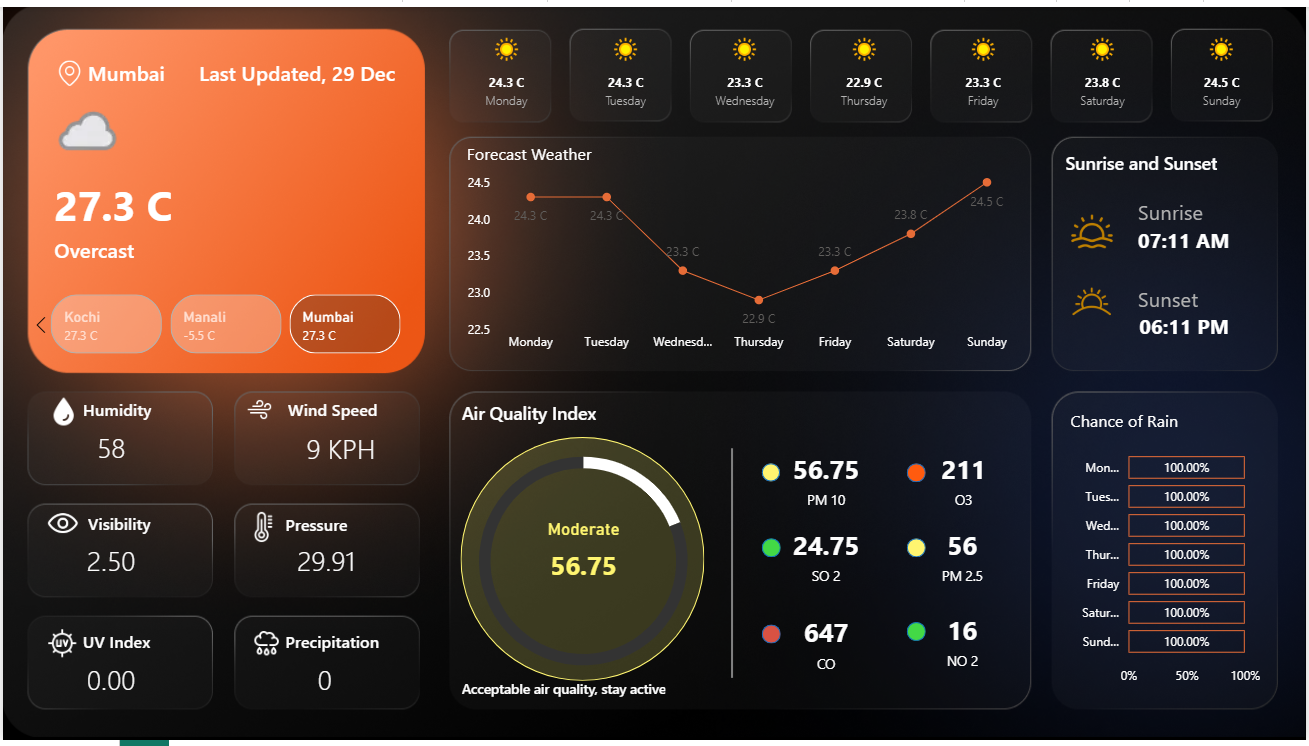

The page's visual inventory and layout, read from the dashboard file:
{"tool":"powerbi","page":{"name":"Page 1","canvas":[1280,720],"ordinal":0},"visuals":[{"type":"shape","box":[449.2,422.6,239.5,239.5],"z":0},{"type":"advancedSlicerVisual","fields":{"Values":["Locations.location.name"]},"box":[22,277.2,393.8,68.6],"z":1000},{"type":"shape","box":[50.8,167.4,205.8,53.5],"z":2000},{"type":"shape","box":[50.8,220.9,205.8,34.3],"z":3000},{"type":"shape","box":[167.4,46.7,218.2,34.3],"z":4000},{"type":"shape","box":[83.7,46.7,140,34.3],"z":5000},{"type":"cardVisual","fields":{"Data":["Min(Current.current.condition.icon)"]},"box":[22,64.5,112.5,105.7],"z":6000},{"type":"image","box":[46.7,48,37,34.3],"z":7000},{"type":"shape","box":[83.7,489.9,116.6,34.3],"z":8000},{"type":"image","box":[34.3,484.4,49.4,43.9],"z":9000},{"type":"shape","box":[279.9,377.4,116.6,34.3],"z":10000},{"type":"image","box":[223.7,377.4,56.3,34.3],"z":11000},{"type":"shape","box":[78.2,377.4,116.6,34.3],"z":12000},{"type":"shape","box":[277.2,491.3,116.6,34.3],"z":13000},{"type":"shape","box":[78.2,605.1,116.6,34.3],"z":14000},{"type":"shape","box":[277.2,605.1,116.6,34.3],"z":15000},{"type":"image","box":[32.9,377.4,52.1,38.4],"z":16000},{"type":"image","box":[234.6,491.3,42.5,39.8],"z":17000},{"type":"image","box":[26.1,605.1,64.5,39.8],"z":18000},{"type":"image","box":[234.6,605.1,48,39.8],"z":19000},{"type":"card","fields":{"Values":["Sum(Current.current.humidity)"]},"box":[71.8,394.7,70.3,76.1],"z":20000},{"type":"card","fields":{"Values":["_Measures.Wind_Speed"]},"box":[277,396.1,109.1,76.1],"z":21000},{"type":"card","fields":{"Values":["Sum(Current.current.vis_km)"]},"box":[71.8,506.7,70.3,76.1],"z":22000},{"type":"card","fields":{"Values":["Sum(Current.current.pressure_in)"]},"box":[269.8,506.7,94.7,76.1],"z":23000},{"type":"card","fields":{"Values":["Sum(Current.current.uv)"]},"box":[71.8,622.9,70.3,76.1],"z":24000},{"type":"card","fields":{"Values":["Sum(Current.current.precip_in)"]},"box":[281.3,622.9,70.3,76.1],"z":25000},{"type":"advancedSlicerVisual","fields":{"Values":["Forecast_Day.Day_Forecast"]},"box":[414.8,14.4,865.5,103.3],"z":26000},{"type":"lineChart","title":"Forecast Weather","fields":{"Y":["Sum(Forecast_Day.forecast.forecastday.day.avgtemp_c)"],"Category":["Forecast_Day.Day_Name"]},"box":[450.2,132.2,550.6,214.2],"z":27000},{"type":"shape","box":[1042.9,135.8,209.9,34.3],"z":28000},{"type":"shape","box":[1114.2,174.3,138.6,53.5],"z":29000},{"type":"shape","box":[1114.2,259.3,138.6,53.5],"z":30000},{"type":"shape","box":[1114.2,201.7,138.6,53.5],"z":31000},{"type":"shape","box":[1115.6,285.4,138.6,53.5],"z":32000},{"type":"image","box":[1042.9,194.9,52.1,50.8],"z":33000},{"type":"image","box":[1030.5,259.3,75.5,60.4],"z":34000},{"type":"hundredPercentStackedBarChart","title":"Chance of Rain","fields":{"Y":["Sum(Forecast_Day.forecast.forecastday.day.daily_chance_of_rain)","_Measures.Left_Value_Rain"],"Category":["Forecast_Day.Day_Name"]},"box":[1042.9,395.2,196.2,279.9],"z":35000},{"type":"shape","box":[450.1,381.5,209.9,34.3],"z":36000},{"type":"card","fields":{"Values":["Sum(Current.current.air_quality.pm2_5)"]},"box":[887.5,500.9,109.6,75.1],"z":37000},{"type":"card","fields":{"Values":["Sum(Current.current.air_quality.o3)"]},"box":[888.1,426.3,109.6,75.1],"z":38000},{"type":"card","fields":{"Values":["Sum(Current.current.air_quality.no2)"]},"box":[887.5,583.8,109.6,75.1],"z":39000},{"type":"card","fields":{"Values":["Sum(Current.current.air_quality.pm10)"]},"box":[752.9,425.7,109.6,75.1],"z":40000},{"type":"card","fields":{"Values":["Sum(Current.current.air_quality.so2)"]},"box":[752.9,500.9,109.6,75.1],"z":41000},{"type":"card","fields":{"Values":["Sum(Current.current.air_quality.co)"]},"box":[752.9,586.9,109.6,75.1],"z":42000},{"type":"shape","box":[745,447.6,18,18],"z":43000},{"type":"shape","box":[745,521.2,18.8,18.8],"z":44000},{"type":"shape","box":[745,605.7,18.8,18.8],"z":45000},{"type":"shape","box":[887.5,447.6,18.8,18.8],"z":46000},{"type":"shape","box":[887.5,521.2,18.8,18.8],"z":47000},{"type":"shape","box":[887.5,604.2,18.8,18.8],"z":48000},{"type":"shape","box":[640.2,433.6,150.3,225.4],"z":49000},{"type":"card","fields":{"Values":["Sum(Current.current.air_quality.pm10)"]},"box":[514.9,502.4,109.6,75.1],"z":50000},{"type":"donutChart","fields":{"Y":["Sum(Current.current.air_quality.pm10)","_Measures.Left_Value_PM10"]},"box":[436.7,402.3,266.1,283.3],"z":51000},{"type":"shape","box":[450.3,651.5,277.3,34.4],"z":52000}]}

Visuals, with their boxes in screenshot pixels (x1, y1, x2, y2), scaled from the page's 1280x720 canvas onto the 1309x746 screenshot:
shape: BBox(459, 438, 704, 686)
advancedSlicerVisual - Locations.location.name: BBox(22, 287, 425, 358)
shape: BBox(52, 173, 262, 229)
shape: BBox(52, 229, 262, 264)
shape: BBox(171, 48, 394, 84)
shape: BBox(86, 48, 229, 84)
cardVisual - Min(Current.current.condition.icon): BBox(22, 67, 138, 176)
image: BBox(48, 50, 86, 85)
shape: BBox(86, 508, 205, 543)
image: BBox(35, 502, 86, 547)
shape: BBox(286, 391, 405, 427)
image: BBox(229, 391, 286, 427)
shape: BBox(80, 391, 199, 427)
shape: BBox(283, 509, 403, 545)
shape: BBox(80, 627, 199, 662)
shape: BBox(283, 627, 403, 662)
image: BBox(34, 391, 87, 431)
image: BBox(240, 509, 283, 550)
image: BBox(27, 627, 93, 668)
image: BBox(240, 627, 289, 668)
card - Sum(Current.current.humidity): BBox(73, 409, 145, 488)
card - _Measures.Wind_Speed: BBox(283, 410, 395, 489)
card - Sum(Current.current.vis_km): BBox(73, 525, 145, 604)
card - Sum(Current.current.pressure_in): BBox(276, 525, 373, 604)
card - Sum(Current.current.uv): BBox(73, 645, 145, 724)
card - Sum(Current.current.precip_in): BBox(288, 645, 360, 724)
advancedSlicerVisual - Forecast_Day.Day_Forecast: BBox(424, 15, 1308, 122)
"Forecast Weather" lineChart: BBox(460, 137, 1023, 359)
shape: BBox(1067, 141, 1281, 176)
shape: BBox(1139, 181, 1281, 236)
shape: BBox(1139, 269, 1281, 324)
shape: BBox(1139, 209, 1281, 264)
shape: BBox(1141, 296, 1283, 351)
image: BBox(1067, 202, 1120, 255)
image: BBox(1054, 269, 1131, 331)
"Chance of Rain" hundredPercentStackedBarChart: BBox(1067, 409, 1267, 699)
shape: BBox(460, 395, 675, 431)
card - Sum(Current.current.air_quality.pm2_5): BBox(908, 519, 1020, 597)
card - Sum(Current.current.air_quality.o3): BBox(908, 442, 1020, 520)
card - Sum(Current.current.air_quality.no2): BBox(908, 605, 1020, 683)
card - Sum(Current.current.air_quality.pm10): BBox(770, 441, 882, 519)
card - Sum(Current.current.air_quality.so2): BBox(770, 519, 882, 597)
card - Sum(Current.current.air_quality.co): BBox(770, 608, 882, 686)
shape: BBox(762, 464, 780, 482)
shape: BBox(762, 540, 781, 560)
shape: BBox(762, 628, 781, 647)
shape: BBox(908, 464, 927, 483)
shape: BBox(908, 540, 927, 560)
shape: BBox(908, 626, 927, 645)
shape: BBox(655, 449, 808, 683)
card - Sum(Current.current.air_quality.pm10): BBox(527, 521, 639, 598)
donutChart - Sum(Current.current.air_quality.pm10) x _Measures.Left_Value_PM10: BBox(447, 417, 719, 710)
shape: BBox(461, 675, 744, 711)
